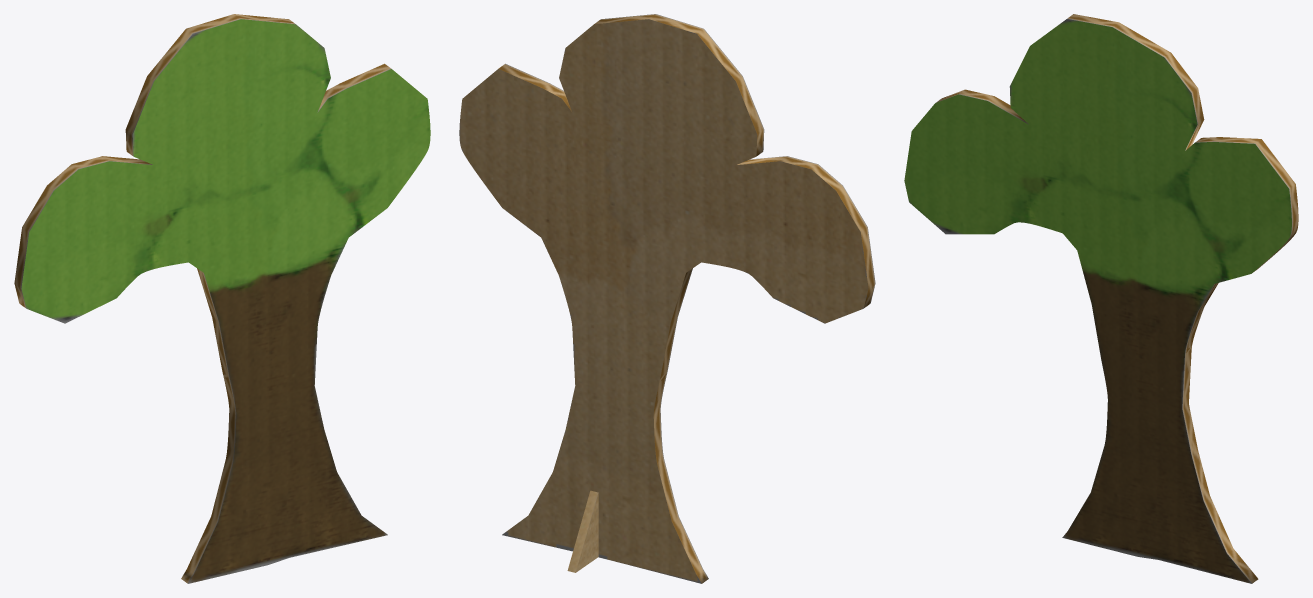
File: 01tree.FBX
3 renders of one model, left to right at view 1: azimuth 30°, elevation 25°; view 2: azimuth 150°, elevation 25°; view 3: azimuth 330°, elevation 25°, orthographic. The views are drawn at different scales.
Visible parts, largest first — view 1: tree001; view 2: tree001; view 3: tree001.
Part boxes in pixels (bbox=[...]): tree001: bbox=[14, 14, 430, 583]; tree001: bbox=[459, 14, 875, 583]; tree001: bbox=[904, 14, 1298, 583].
Size of the model in its own units: 11.43 by 14.75 by 1.45.
1 material, 1 textured.
